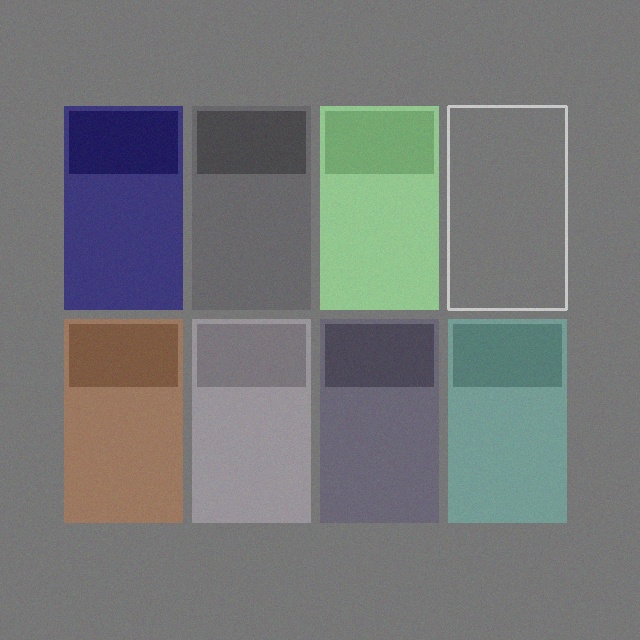space-empty: (448, 106, 566, 309)
space-occupied: (64, 106, 182, 309), (192, 106, 310, 309), (320, 106, 438, 309), (64, 319, 182, 522), (192, 319, 310, 522), (320, 319, 438, 522), (448, 319, 566, 522)
